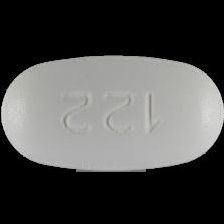10544-430: (0, 0, 224, 224)
